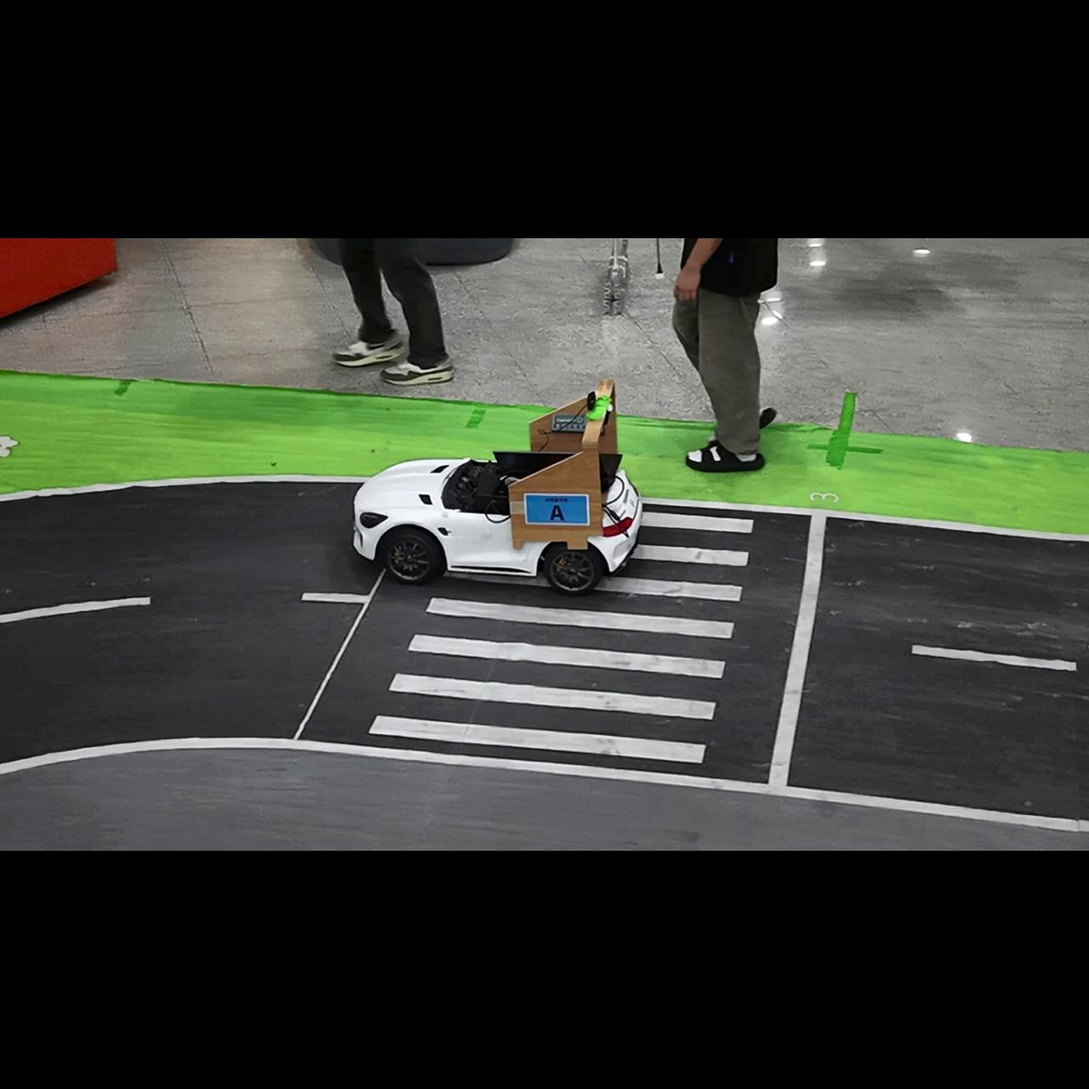broken_line: (911, 645, 1077, 671), (0, 598, 150, 623), (301, 593, 369, 603)
crosswalk: (369, 511, 754, 764)
